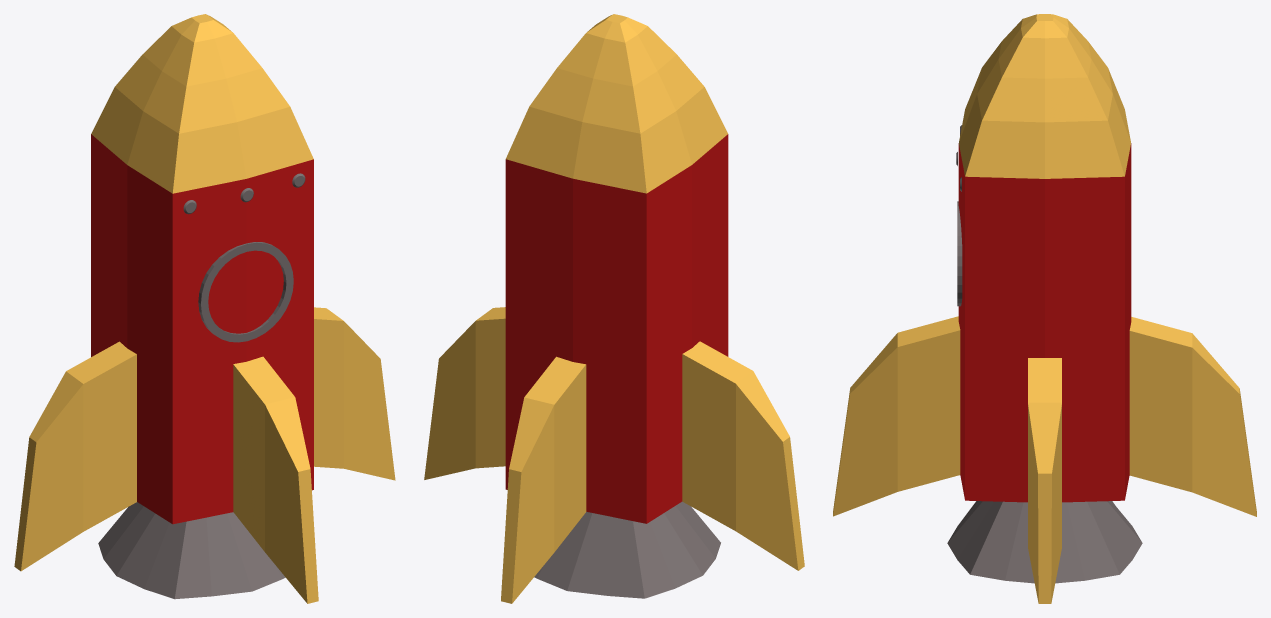
The model's file is rocketmerge.fbx.
3 renders of one model, left to right at view 1: azimuth 30°, elevation 25°; view 2: azimuth 150°, elevation 25°; view 3: azimuth 270°, elevation 25°, orthographic. The views are drawn at different scales.
Visible parts, largest first — view 1: body; view 2: body; view 3: body.
Part boxes in pixels (bbox=[...]): body: bbox=[14, 14, 395, 603]; body: bbox=[424, 14, 804, 603]; body: bbox=[833, 14, 1256, 603].
Size of the model in its own units: 530 by 726 by 530.
